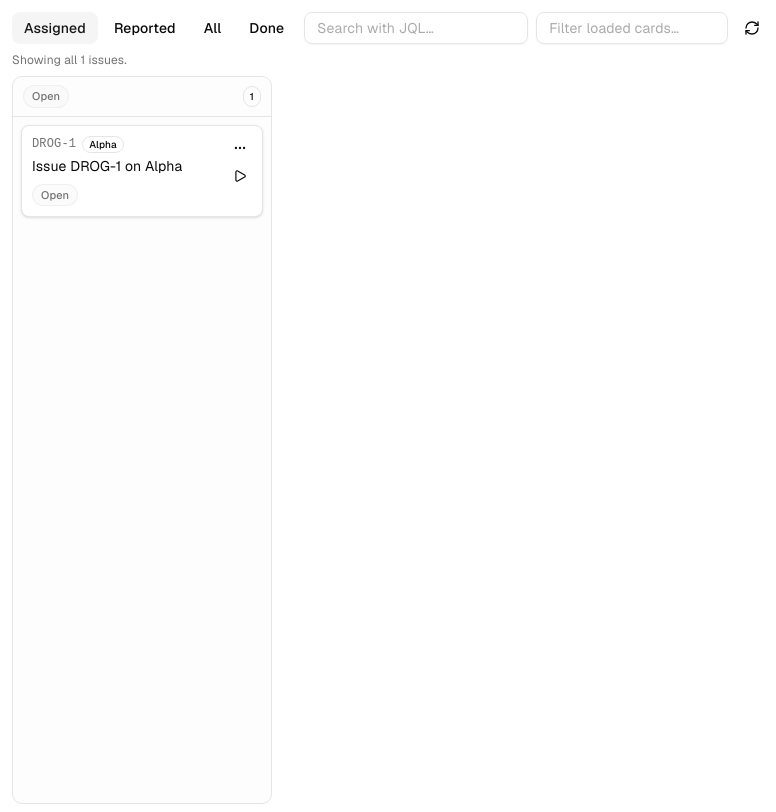
Test: JiraKanbanBoard › never blind-reposts after an uncertain timeout; reconciliation adopts server truth
Expected: the list item "DROG-1 Alpha Issue DROG-1 on Alpha Open" is shown, [21,124,263,217]
Click the button named "Transitions for DROG-1" at (240, 148), box [228,136,252,160]
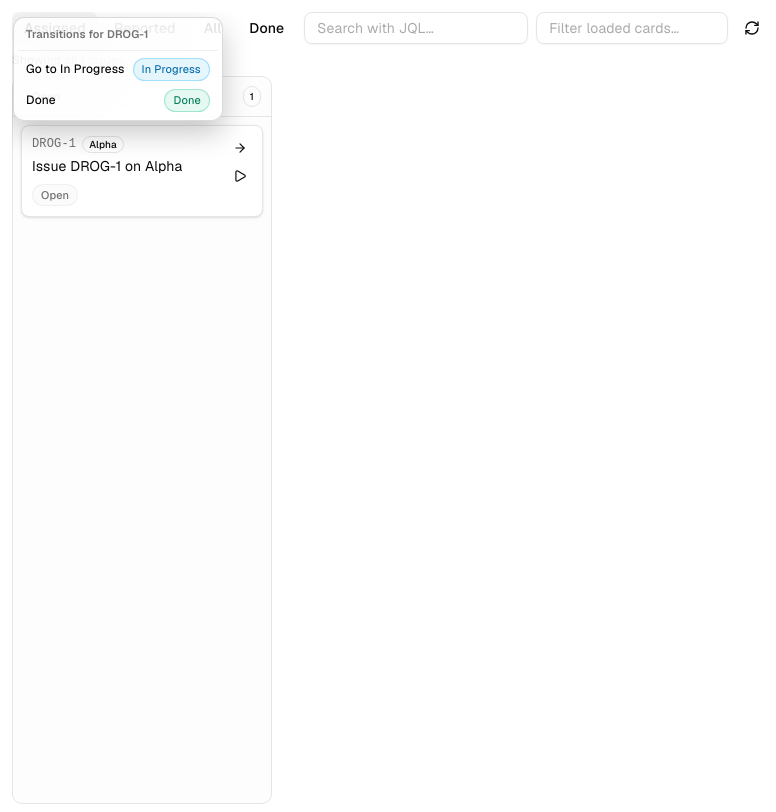
Expected: the menu item "Go to In Progress In Progress" is shown
Click the menu item "Go to In Progress In Progress" at (118, 69), box [18,54,218,84]
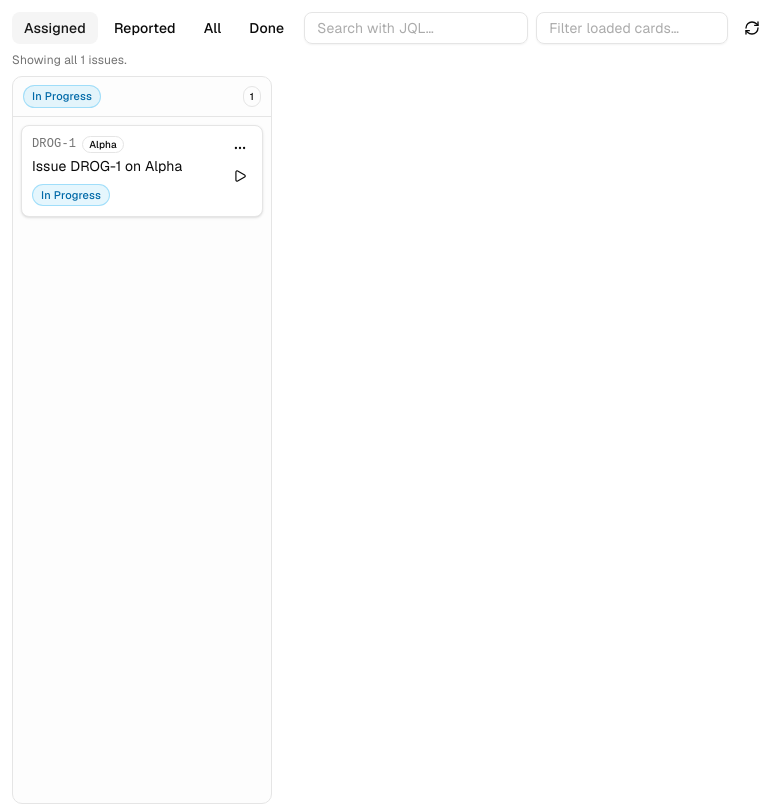
Expected: the text "In Progress" below "Issue DROG-1 on Alpha" is shown, [41,188,101,202]
